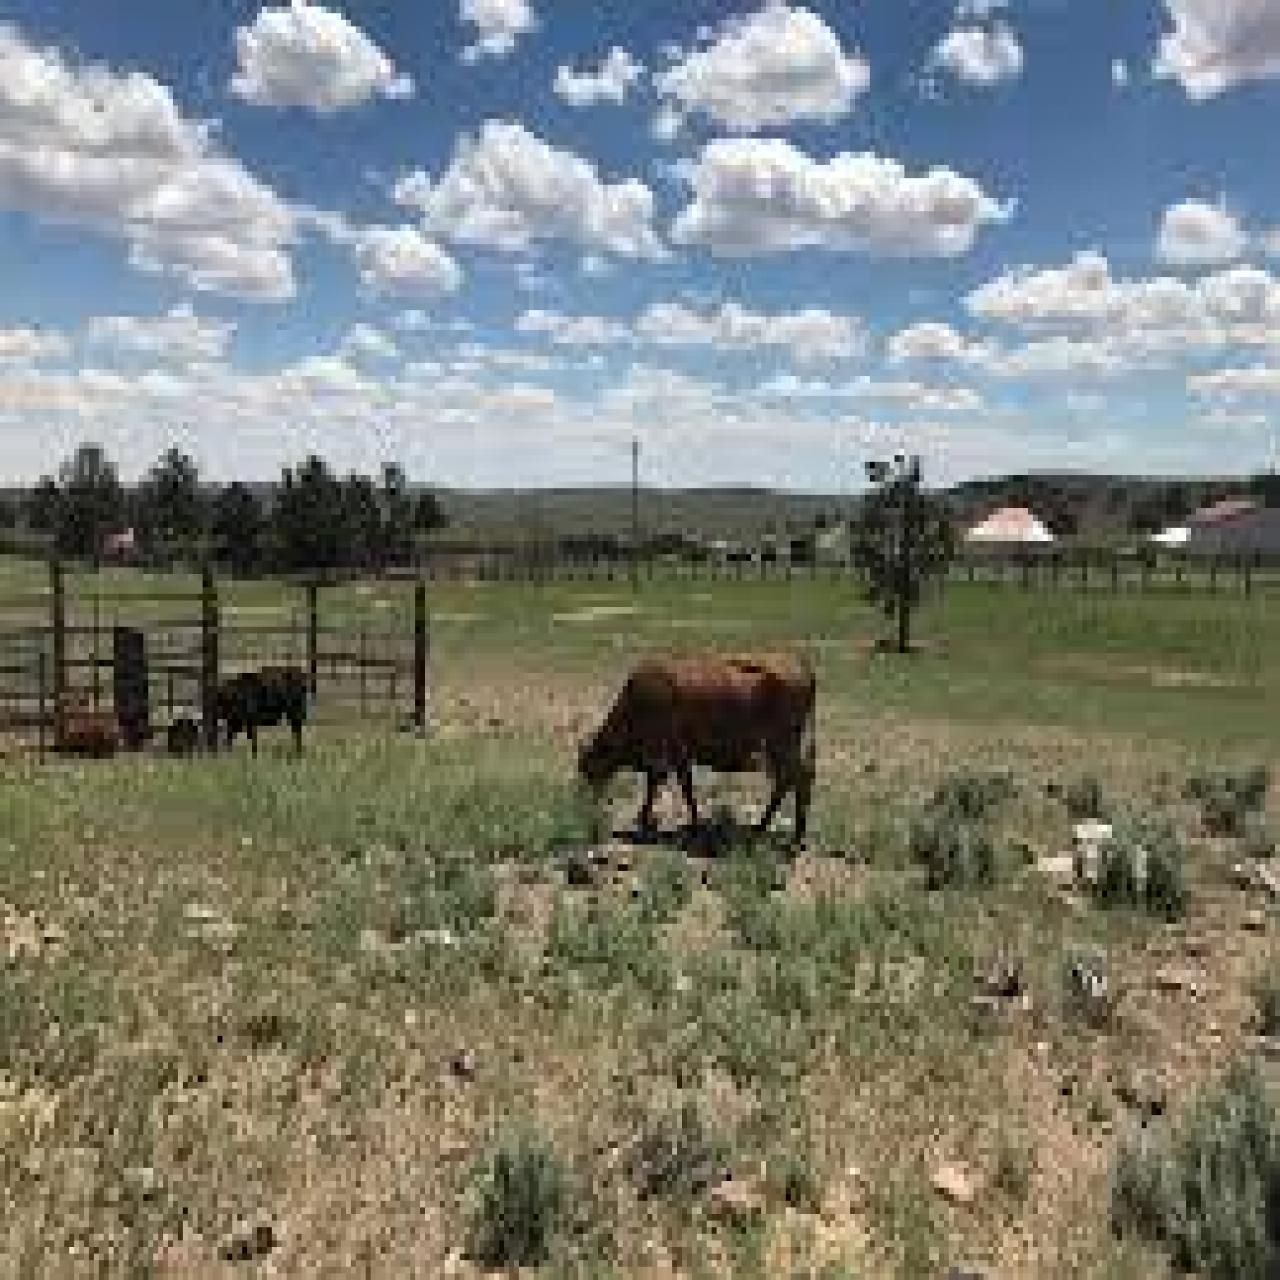cow: (573, 656, 821, 862), (205, 669, 314, 762)
